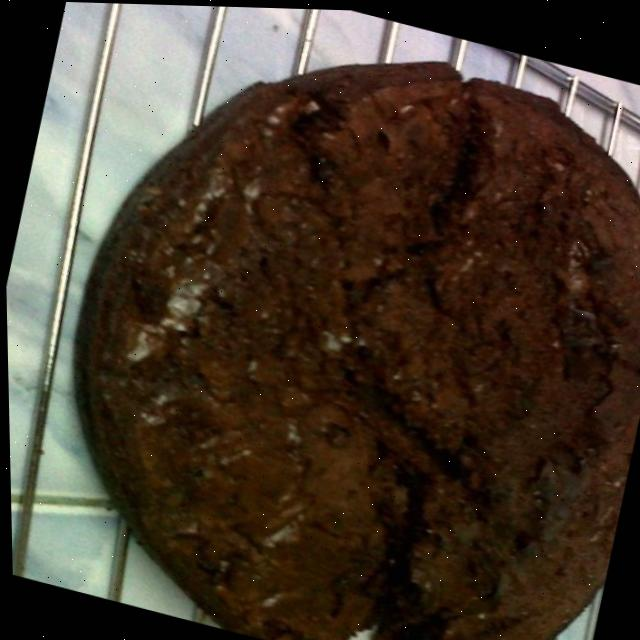蛋糕甜品: (21, 0, 640, 640)
